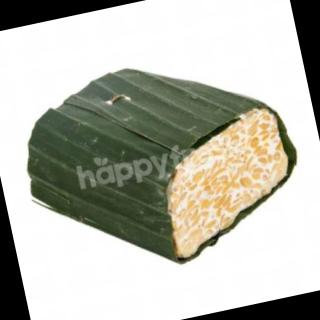Tempe: (7, 33, 318, 294)
